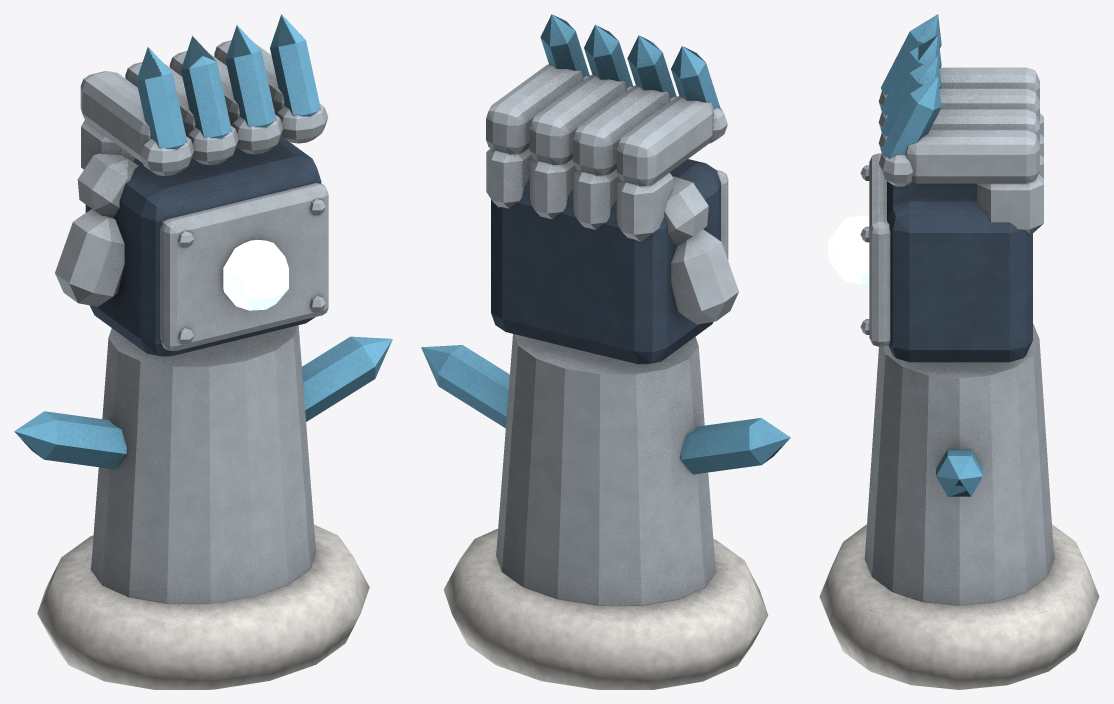
Rendered from 04_tundra_gauntlet.fbx.
3 renders of one model, left to right at view 1: azimuth 30°, elevation 25°; view 2: azimuth 150°, elevation 25°; view 3: azimuth 270°, elevation 25°, orthographic. The views are drawn at different scales.
Visible parts, largest first — view 1: Weapon; view 2: Weapon; view 3: Weapon.
Boxes of the visible parts, bbox=[...] form: Weapon: bbox=[14, 14, 392, 689]; Weapon: bbox=[421, 14, 790, 689]; Weapon: bbox=[819, 14, 1099, 689].
Size of the model in its own units: 32.32 by 50.4 by 21.69.
Materials: 2 (1 with a texture image).
